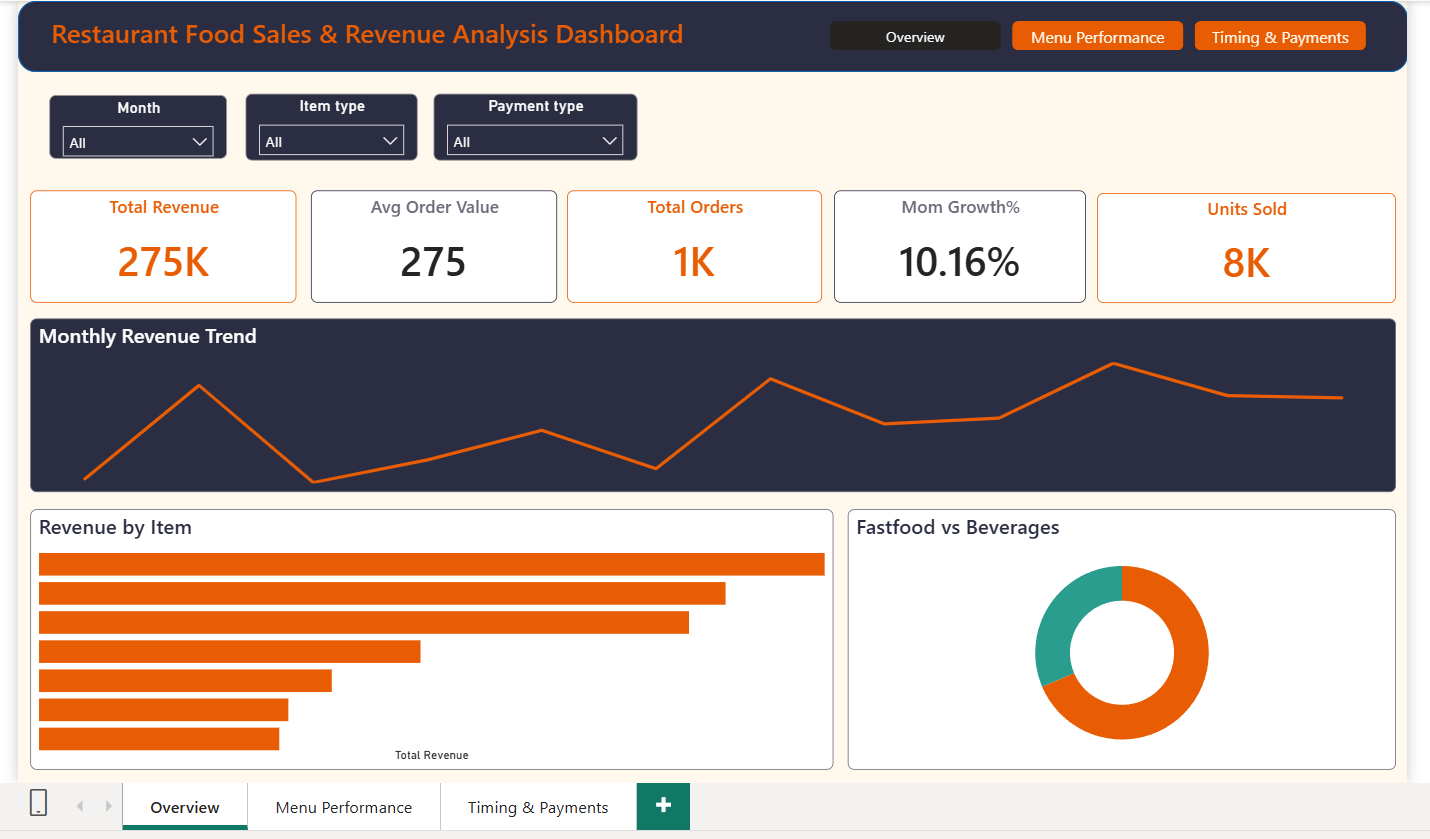

The dashboard page shown, as its layout file describes it:
{"tool":"powerbi","page":{"name":"Overview","canvas":[1280,720],"ordinal":0},"visuals":[{"type":"shape","box":[0,0,1280.4,65.6],"z":0},{"type":"slicer","title":"Month","fields":{"Values":["Dim_Date.Month"]},"box":[28.9,86.6,164,59],"z":1000},{"type":"slicer","title":"Item type","fields":{"Values":["restaurent vw_sales.item_type"]},"box":[209.9,85.3,158.7,61.7],"z":2000},{"type":"slicer","title":"Payment type","fields":{"Values":["restaurent vw_sales.payment_type"]},"box":[383.1,85.3,187.6,61.7],"z":3000},{"type":"cardVisual","title":"Total Revenue","fields":{"Data":["restaurent vw_sales.Total Revenue"]},"box":[11.8,174.5,245.3,103.6],"z":4000},{"type":"cardVisual","title":"Total Orders","fields":{"Data":["restaurent vw_sales.Total Orders"]},"box":[506.4,174.5,234.8,103.6],"z":5000},{"type":"cardVisual","title":"Units Sold","fields":{"Data":["restaurent vw_sales.Units Sold"]},"box":[994.4,177.1,275.5,101],"z":6000},{"type":"cardVisual","title":"Avg Order Value","fields":{"Data":["restaurent vw_sales.Avg Order Value"]},"box":[270.2,174.5,227,103.6],"z":7000},{"type":"cardVisual","title":"Mom Growth%","fields":{"Data":["restaurent vw_sales.MoM Growth %"]},"box":[751.7,174.5,232.2,103.6],"z":8000},{"type":"lineChart","title":"Monthly Revenue Trend","fields":{"Category":["Dim_Date.Month Year"],"Y":["restaurent vw_sales.Total Revenue"]},"box":[11.8,292.5,1258.1,160],"z":9000},{"type":"donutChart","title":"Fastfood vs Beverages","fields":{"Category":["restaurent vw_sales.item_type"],"Y":["restaurent vw_sales.Total Revenue"]},"box":[764.8,468.3,505.1,240.1],"z":10000},{"type":"clusteredBarChart","title":"Revenue by Item","fields":{"Category":["restaurent vw_sales.item_name"],"Y":["restaurent vw_sales.Total Revenue"]},"box":[11.8,468.3,739.9,240.1],"z":11000},{"type":"textbox","title":"Restaurant Food Sales & Revenue Analysis Dashboard","box":[18.4,13.1,606.1,39.4],"z":12000},{"type":"pageNavigator","box":[741.2,13.1,506.4,39.4],"z":13000}]}

Visuals, with their boxes on the page's 1280x720 design canvas (x1, y1, x2, y2). These are canvas units, not pixel positions in the 1430x839 screenshot, which may show the page scaled, cropped or inside an application window:
shape: 0:0:1280:66
"Month" slicer: 29:87:193:146
"Item type" slicer: 210:85:369:147
"Payment type" slicer: 383:85:571:147
"Total Revenue" cardVisual: 12:174:257:278
"Total Orders" cardVisual: 506:174:741:278
"Units Sold" cardVisual: 994:177:1270:278
"Avg Order Value" cardVisual: 270:174:497:278
"Mom Growth%" cardVisual: 752:174:984:278
"Monthly Revenue Trend" lineChart: 12:292:1270:452
"Fastfood vs Beverages" donutChart: 765:468:1270:708
"Revenue by Item" clusteredBarChart: 12:468:752:708
"Restaurant Food Sales & Revenue Analysis Dashboard" textbox: 18:13:624:52
pageNavigator: 741:13:1248:52
